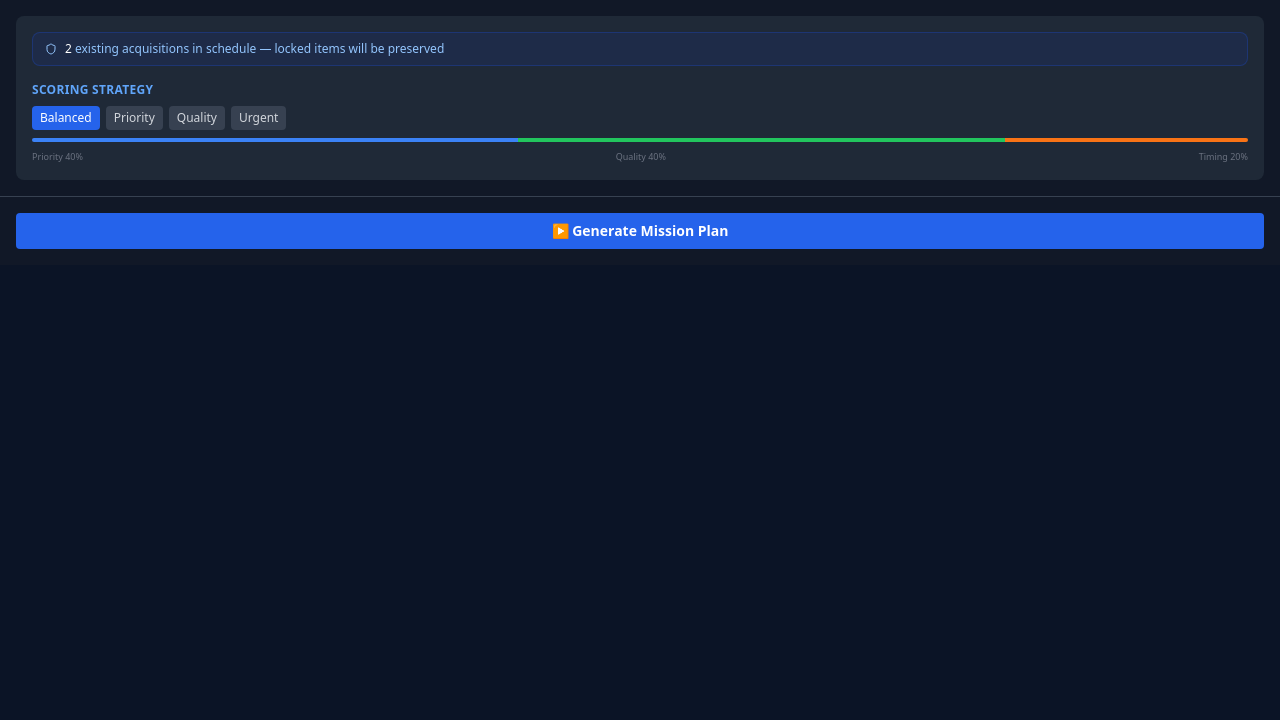
Test case: MissionPlanning › sends priority-first weights and from_scratch mode through the planner API
The width and height of the screenshot is (1280, 720).
Click the button "Priority": (134, 118) 106,106 -> 163,130
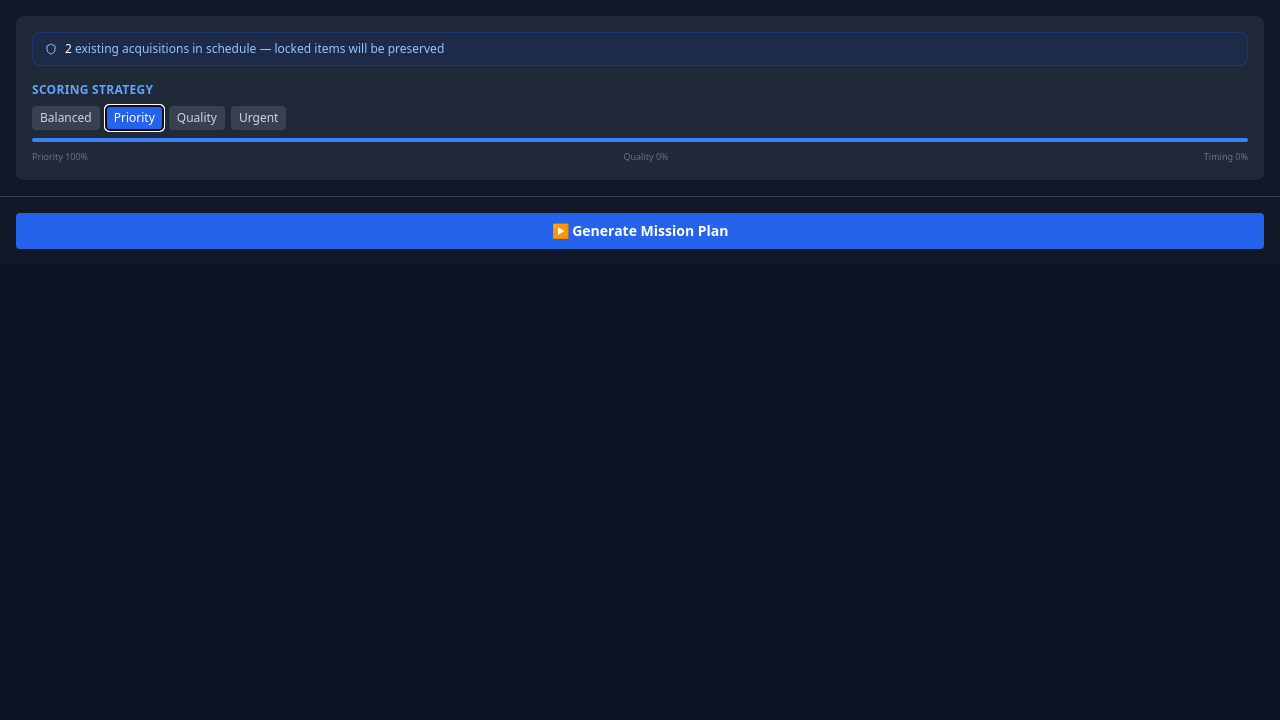
Click the button "▶ Generate Mission Plan": (640, 230) 16,212 -> 1264,248
(page scrolled)
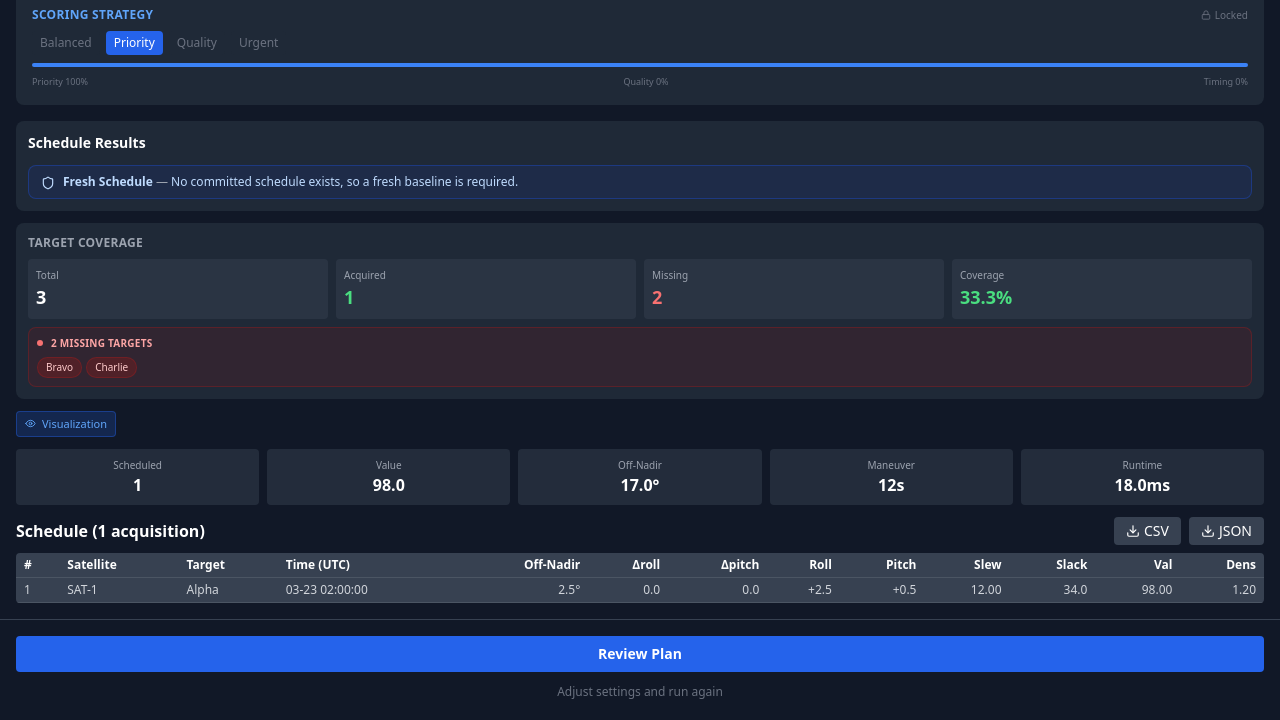
Expected: the text "Fresh Schedule" is shown, 63,172 -> 153,190
Expected: the text "fresh baseline is required" is shown, 171,172 -> 518,190
Expected: the button "Review Plan" is shown, 16,636 -> 1264,672
